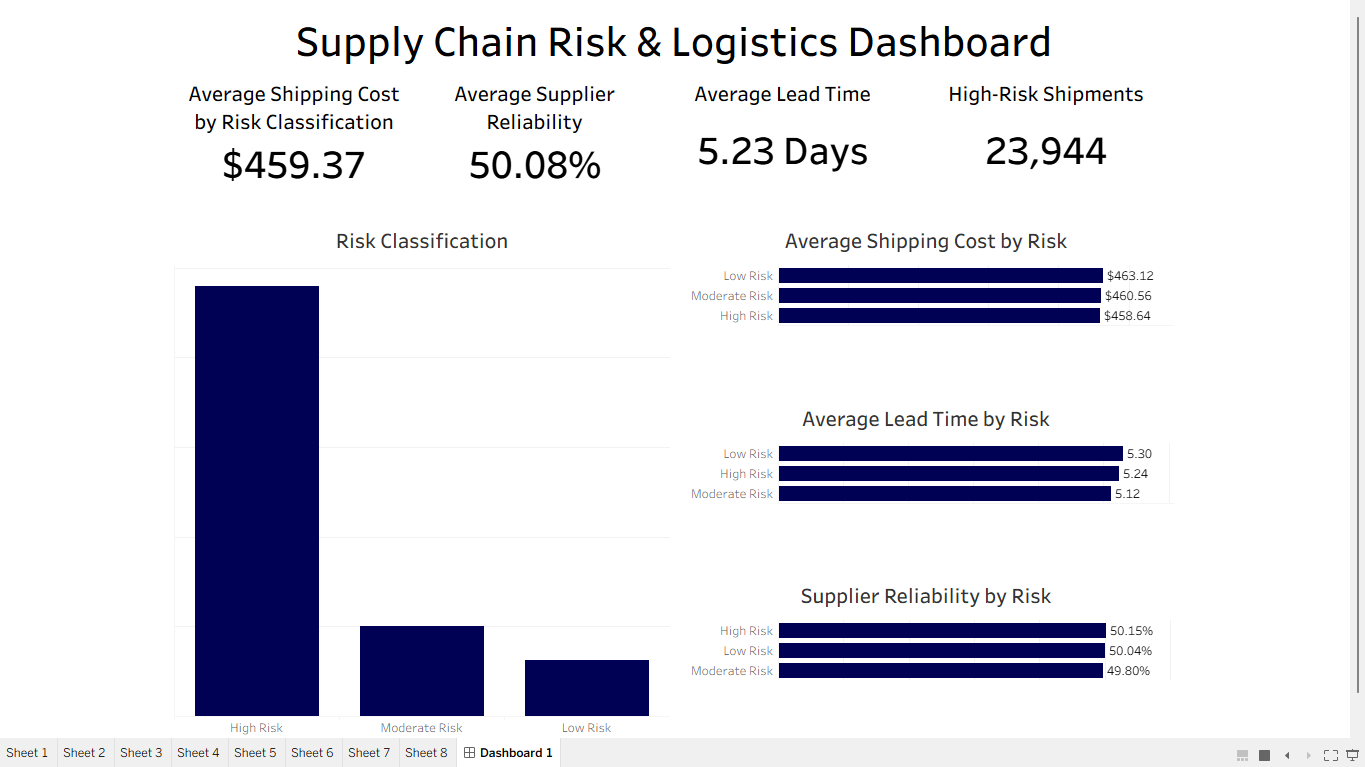

Layout of this report page (visuals, bound fields, positions):
{"tool":"tableau","page":{"name":"Dashboard 1","canvas":[1024,768],"ordinal":0},"visuals":[{"type":"text","box":[8,8,1008,63]},{"type":"worksheet","title":"Sheet 1","mark":"Automatic","box":[8,71,248,114]},{"type":"worksheet","title":"Sheet 2","mark":"Automatic","box":[256,71,233,114]},{"type":"worksheet","title":"Sheet 3","mark":"Automatic","box":[489,71,263.5,114]},{"type":"worksheet","title":"Sheet 4","mark":"Automatic","box":[752.5,71,263.5,114]},{"type":"worksheet","title":"Sheet 5","mark":"Automatic","rows":["risk_classification"],"cols":["risk_classification"],"box":[8,218,504,542]},{"type":"worksheet","title":"Sheet 6","mark":"Automatic","rows":["risk_classification"],"cols":["shipping_costs"],"box":[512,218,504,178]},{"type":"worksheet","title":"Sheet 7","mark":"Automatic","rows":["risk_classification"],"cols":["lead_time_days"],"box":[512,396,504,177]},{"type":"worksheet","title":"Sheet 8","mark":"Automatic","rows":["risk_classification"],"cols":["supplier_reliability_score"],"box":[512,573,504,111]}]}

Visuals, with their boxes on the page's 1024x768 design canvas (x1, y1, x2, y2). These are canvas units, not pixel positions in the 1365x767 screenshot, which may show the page scaled, cropped or inside an application window:
text: x1=8, y1=8, x2=1016, y2=71
"Sheet 1" worksheet: x1=8, y1=71, x2=256, y2=185
"Sheet 2" worksheet: x1=256, y1=71, x2=489, y2=185
"Sheet 3" worksheet: x1=489, y1=71, x2=752, y2=185
"Sheet 4" worksheet: x1=752, y1=71, x2=1016, y2=185
"Sheet 5" worksheet: x1=8, y1=218, x2=512, y2=760
"Sheet 6" worksheet: x1=512, y1=218, x2=1016, y2=396
"Sheet 7" worksheet: x1=512, y1=396, x2=1016, y2=573
"Sheet 8" worksheet: x1=512, y1=573, x2=1016, y2=684
